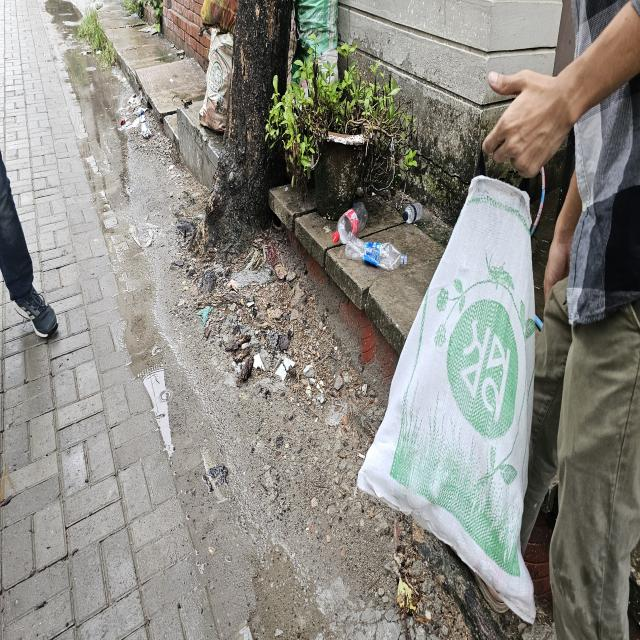artificial_container: (331, 202, 368, 248), (402, 198, 424, 227)
